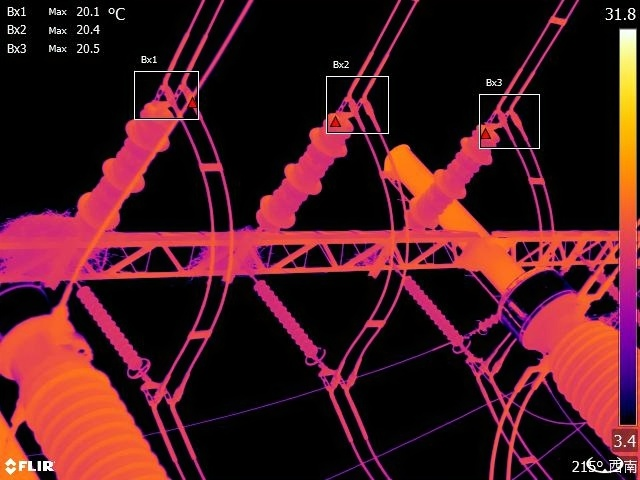clamp: (141, 378, 192, 413), (151, 73, 196, 106), (340, 87, 381, 123), (320, 366, 361, 400), (486, 101, 529, 131), (466, 362, 509, 388)
current transformer: (1, 280, 181, 480), (498, 250, 640, 480)
insulator: (71, 95, 175, 237), (257, 105, 354, 236), (407, 117, 499, 236), (76, 283, 158, 381), (256, 279, 328, 368), (398, 272, 470, 354)
